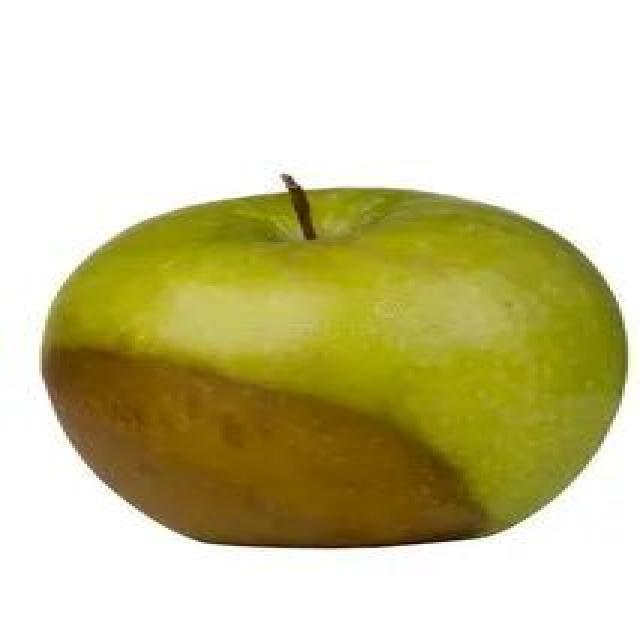Rotten: (52, 172, 615, 552)
